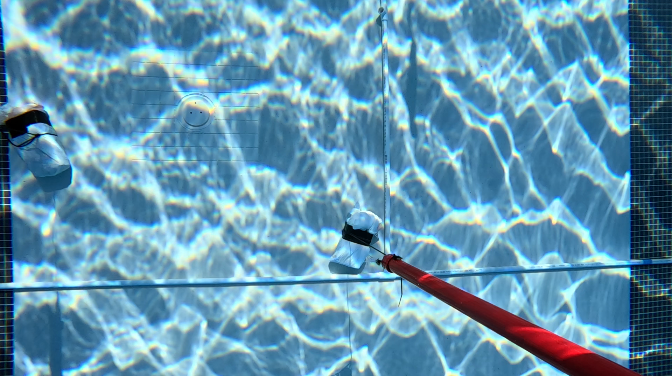sandbag: (1, 101, 66, 176), (333, 207, 380, 268)
